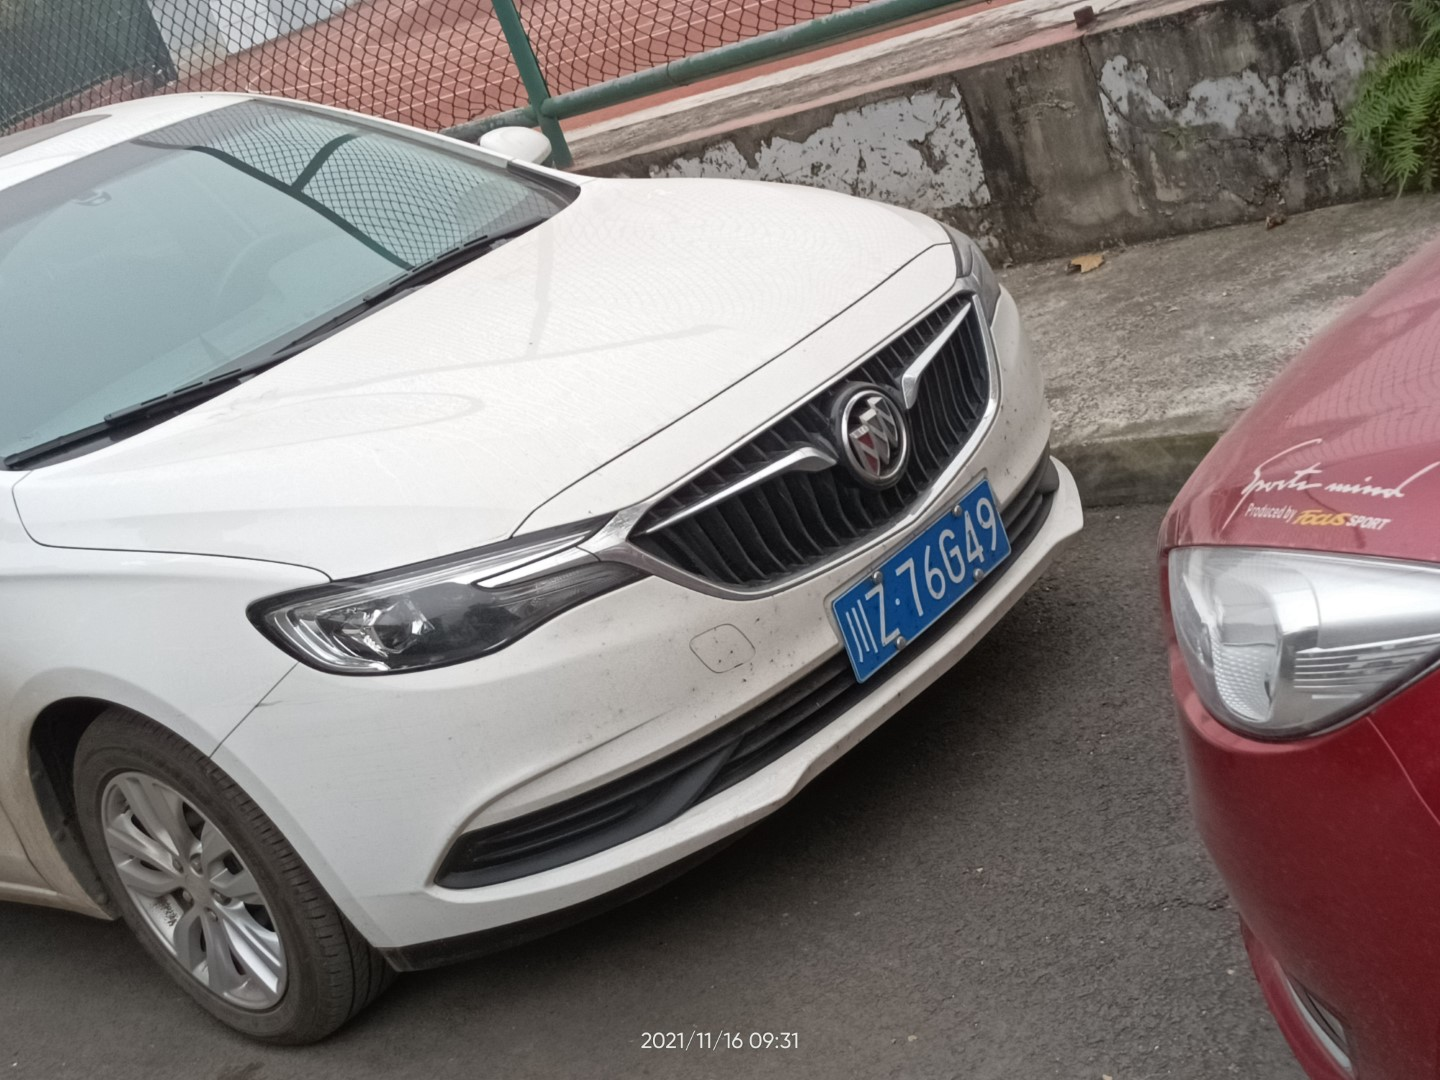plate: (829, 479, 1014, 681)
